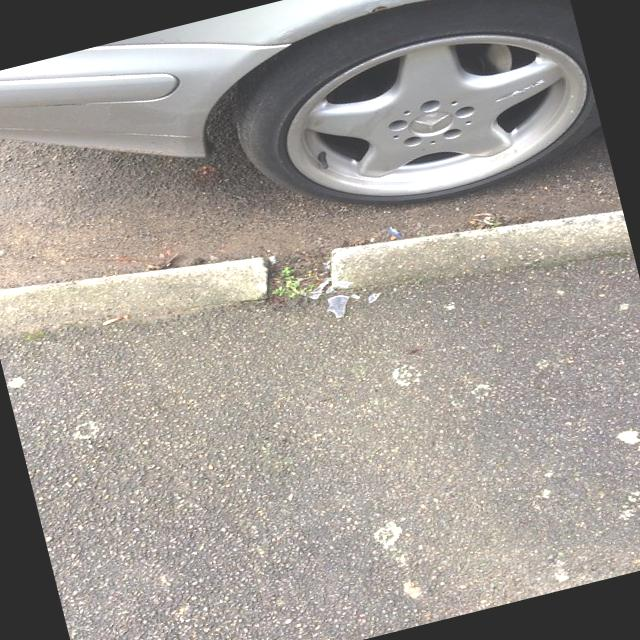Trash: (304, 271, 386, 327)
